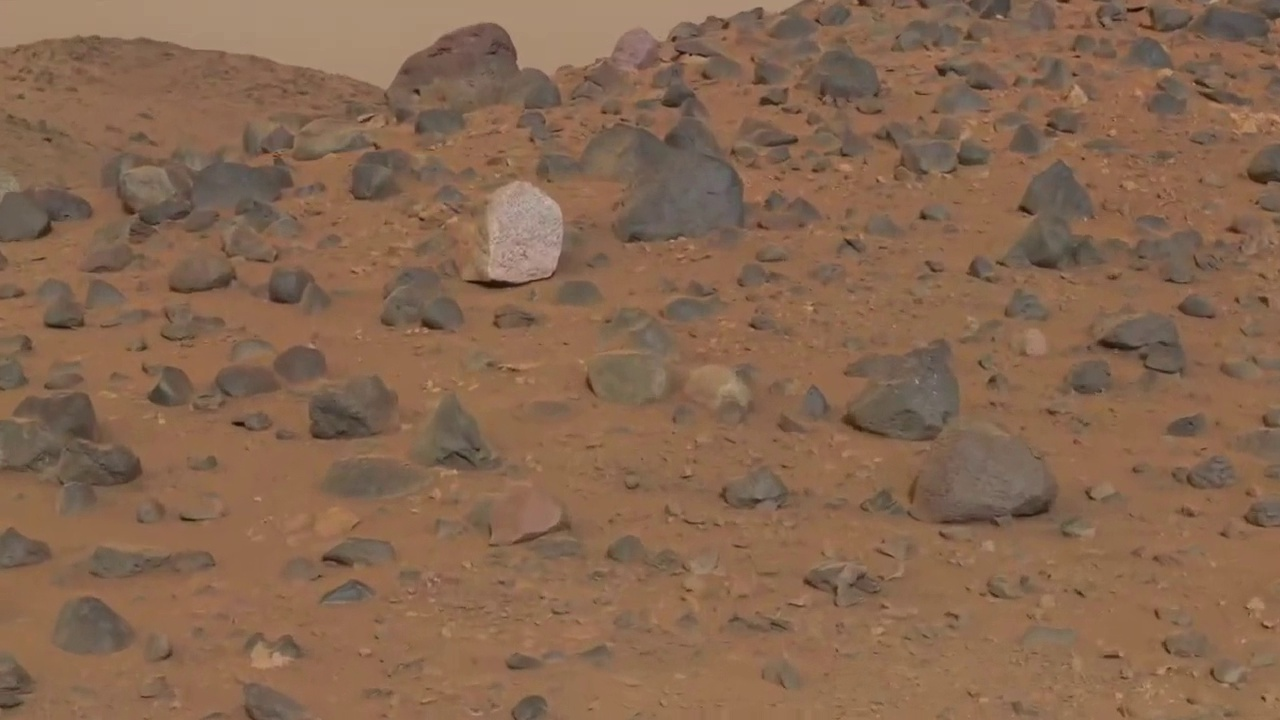rock: (465, 185, 581, 291), (803, 570, 838, 606), (322, 580, 370, 604), (758, 88, 802, 114), (1044, 108, 1080, 137), (1243, 504, 1280, 528), (1177, 297, 1216, 319), (967, 258, 1000, 283), (584, 62, 613, 89), (345, 94, 371, 123), (752, 60, 782, 85), (231, 413, 272, 431)
